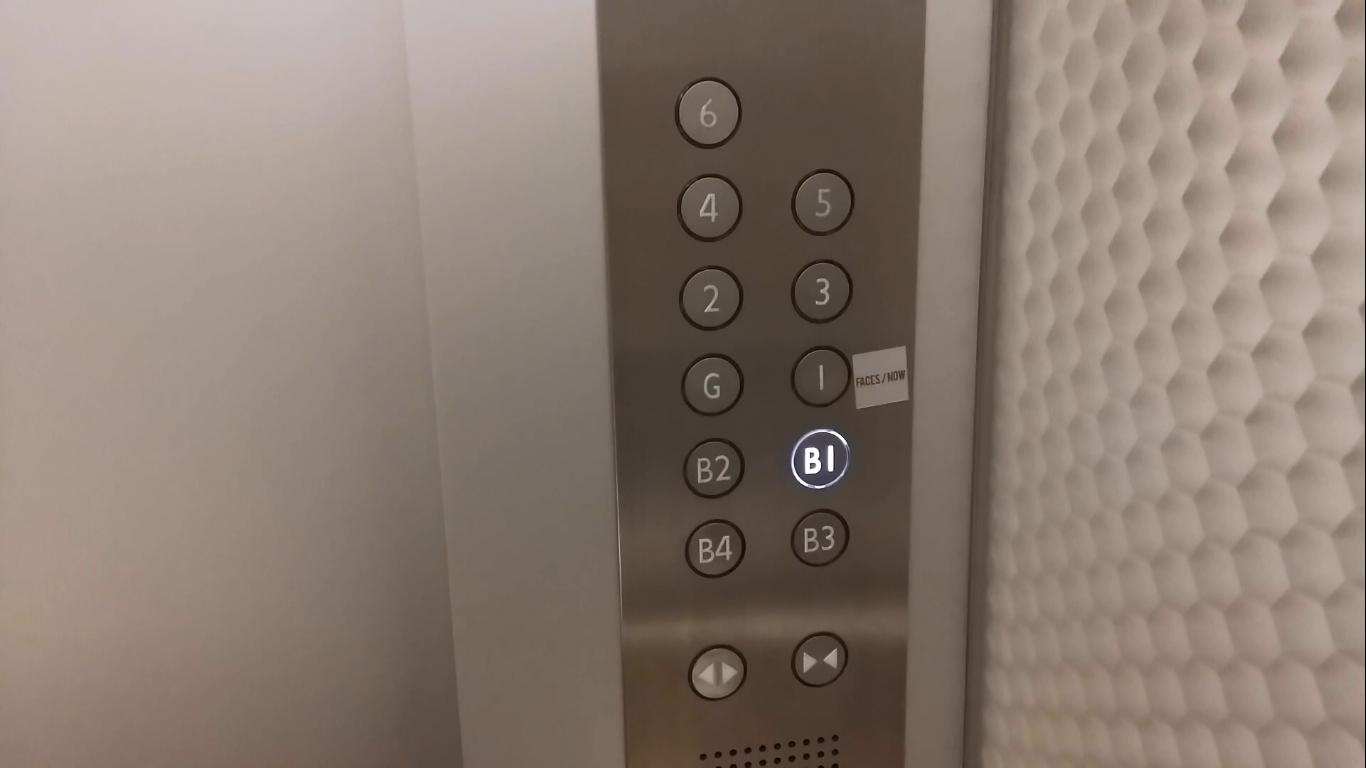1: (790, 343, 852, 409)
2: (678, 264, 743, 334)
3: (790, 258, 853, 324)
4: (675, 173, 743, 242)
5: (791, 169, 854, 238)
6: (675, 77, 743, 150)
B1: (788, 428, 850, 491)
B2: (682, 436, 746, 501)
B3: (789, 507, 850, 569)
B4: (681, 517, 746, 579)
G: (680, 351, 743, 419)
close: (789, 630, 848, 690)
open: (687, 643, 747, 701)
